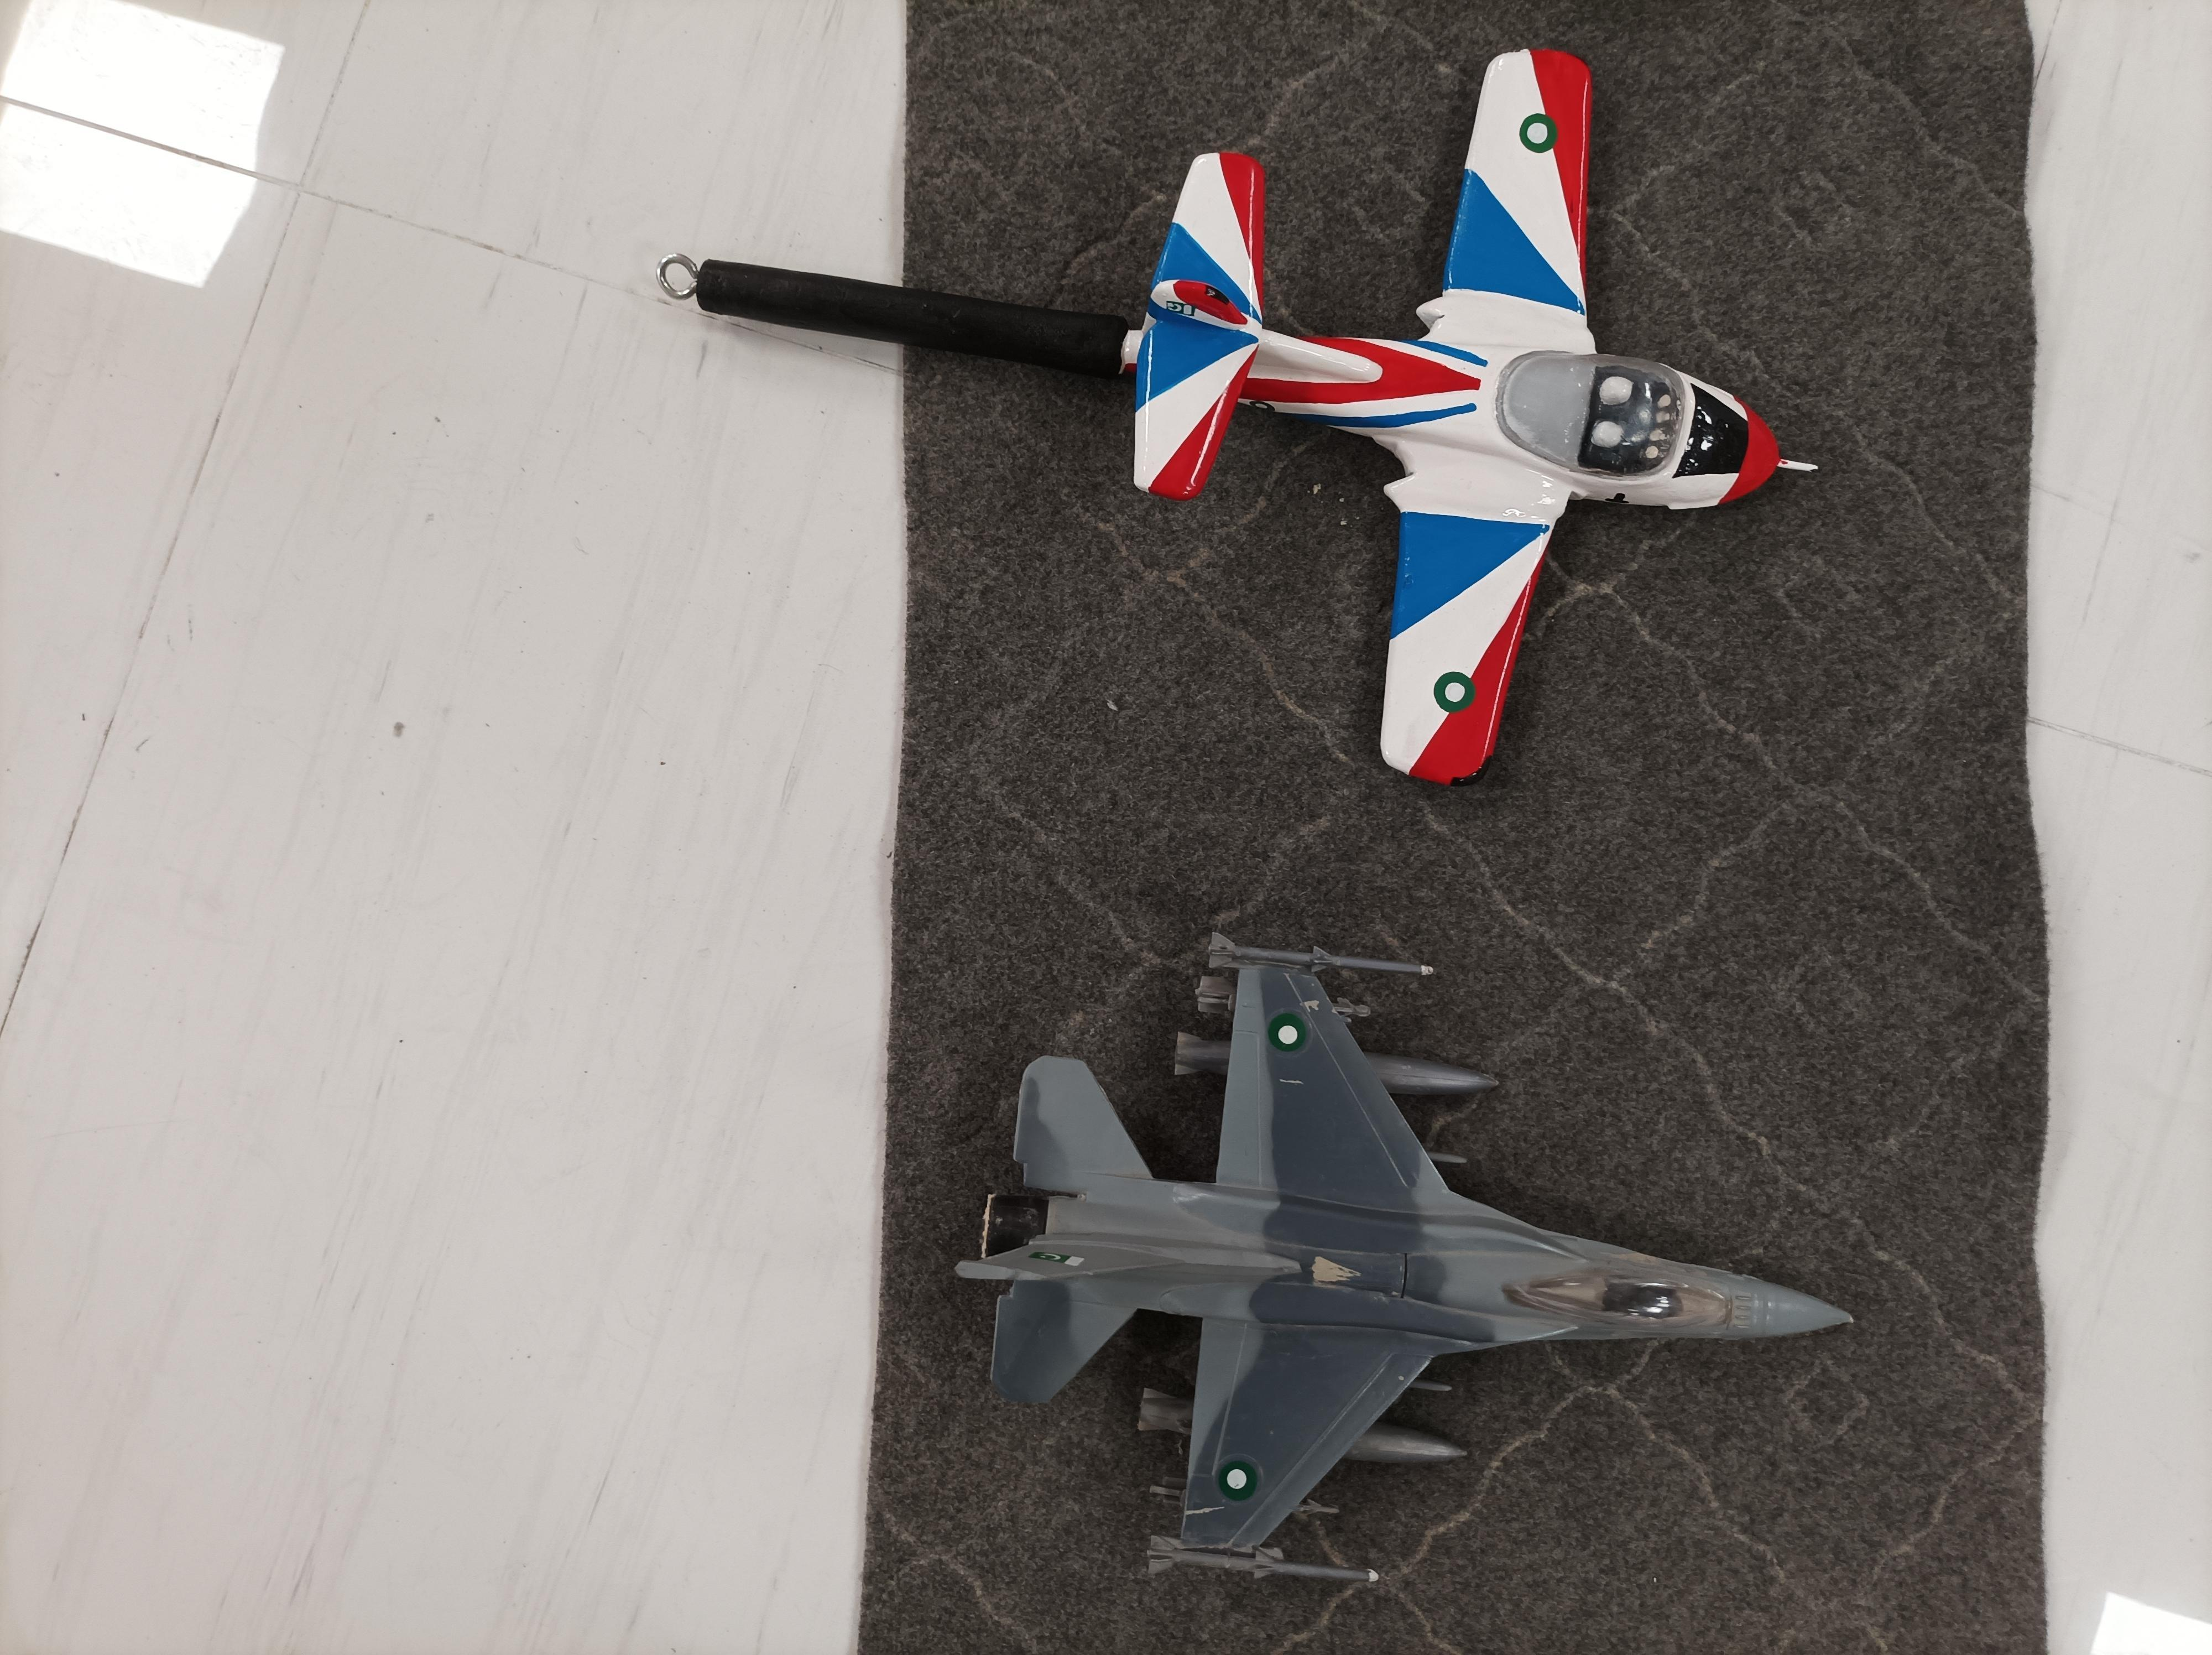Airplane: (916, 883, 1889, 1618), (1114, 30, 1871, 821)
